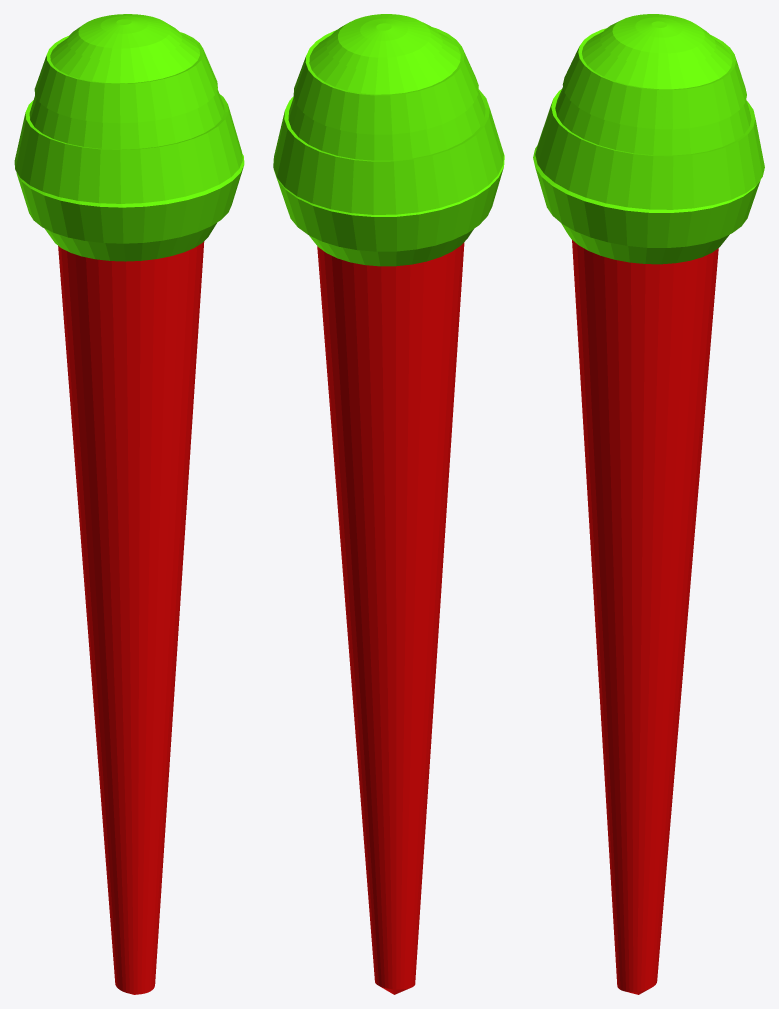
The model's file is Torch.fbx.
3 views of the same model, side by side, from view 1: azimuth 30°, elevation 25°; view 2: azimuth 150°, elevation 25°; view 3: azimuth 270°, elevation 25° (orthographic).
Parts seen in each view (by area): view 1: egyptian_torch_; view 2: egyptian_torch_; view 3: egyptian_torch_.
Part boxes in pixels (x1,y1,x2,y2): egyptian_torch_: [14, 14, 244, 994]; egyptian_torch_: [273, 14, 504, 994]; egyptian_torch_: [533, 14, 764, 994].
Size of the model in its own units: 20.04 by 93.02 by 20.15.
